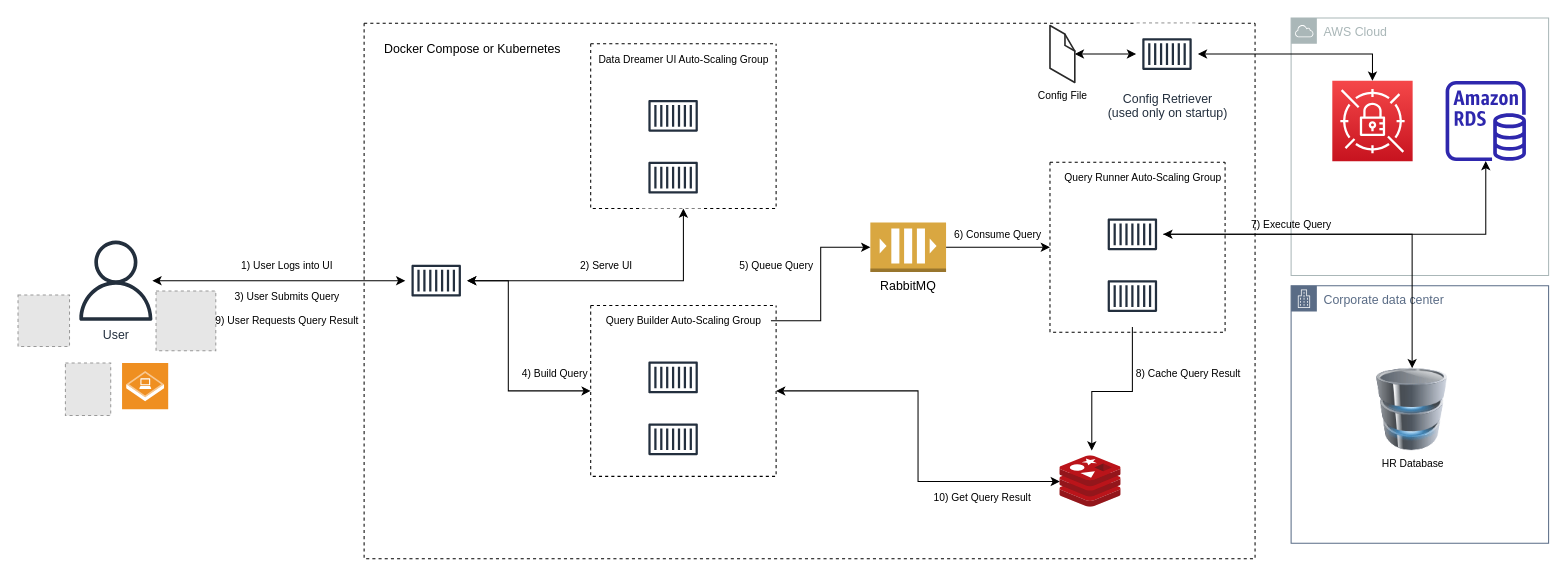
Image size: 1567x577. Some labels were removed from this diagram. Grey dashed boxes stand in for pictures. The centre of each missing label's shape, as x and y in pixels:
Auth & Proxy Server: point (435, 280)
Finance Database: point (1485, 120)
Redis Cache: point (1090, 481)
Secrets Manager: point (1372, 120)
